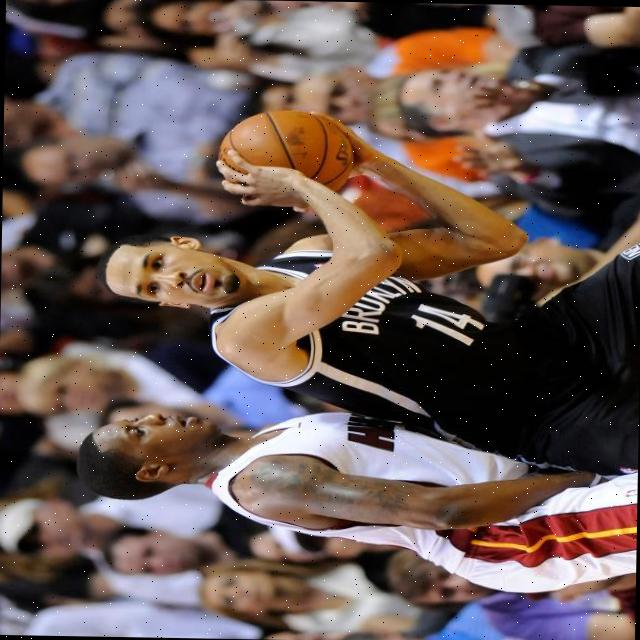ball: (212, 105, 358, 204)
